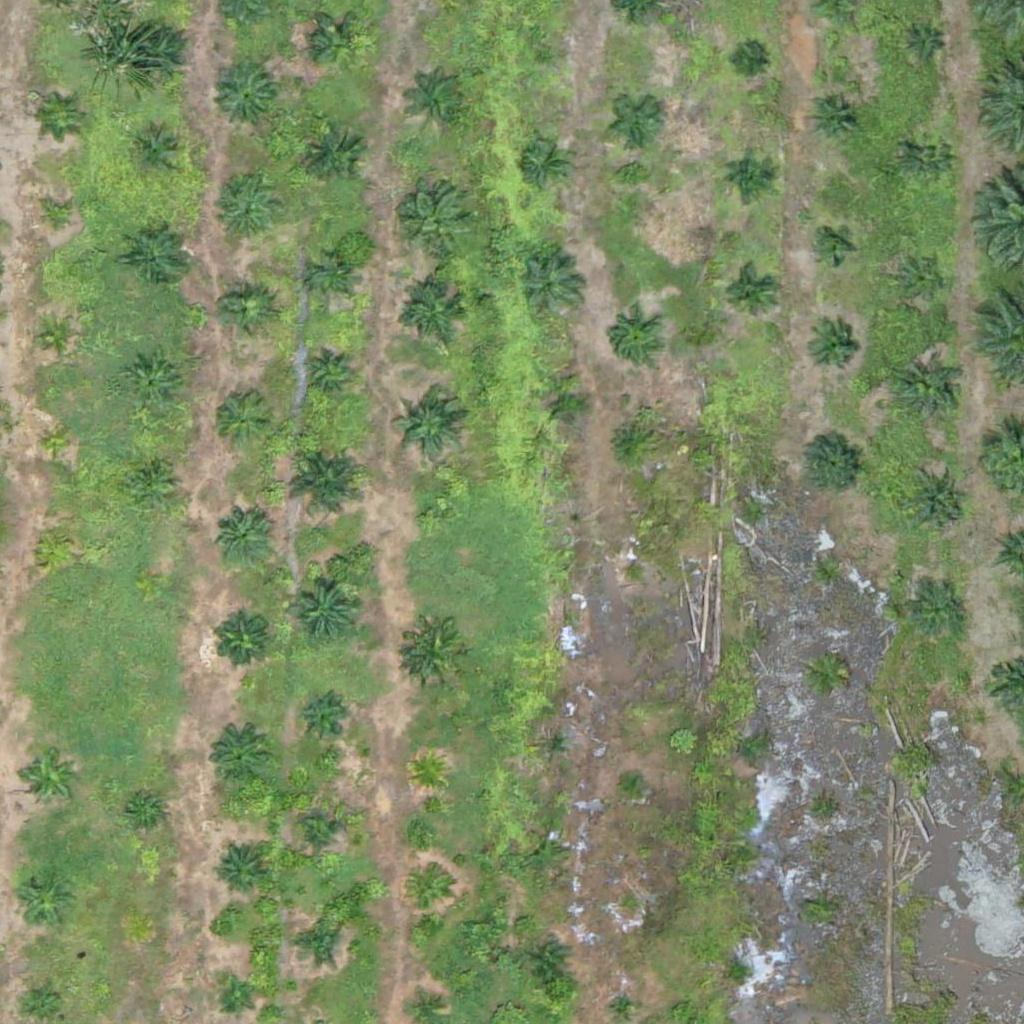Kelapa_Sawit: (283, 439, 370, 527), (391, 390, 466, 466), (286, 570, 361, 645), (11, 870, 74, 933), (209, 388, 272, 451), (214, 181, 277, 244), (212, 505, 275, 568), (906, 471, 969, 534), (520, 254, 583, 317), (801, 430, 864, 493), (403, 622, 466, 685), (127, 224, 190, 287), (18, 747, 81, 810), (123, 354, 186, 417), (128, 24, 191, 87), (213, 65, 275, 128), (206, 725, 268, 788), (210, 608, 272, 671), (900, 361, 962, 424), (303, 125, 365, 188), (403, 282, 465, 345), (405, 192, 468, 254), (411, 70, 473, 133), (212, 846, 262, 897), (723, 267, 773, 318), (807, 321, 857, 372), (289, 916, 339, 967), (132, 128, 182, 179), (541, 380, 591, 431), (603, 415, 653, 466), (221, 287, 271, 337), (293, 696, 343, 746), (913, 590, 963, 640), (905, 133, 955, 183), (725, 150, 775, 200), (613, 95, 663, 145), (313, 17, 363, 67), (520, 138, 570, 188), (608, 313, 658, 363), (126, 455, 176, 505), (894, 252, 944, 302), (810, 92, 860, 142), (294, 810, 344, 860), (302, 348, 351, 399), (46, 98, 84, 136), (814, 227, 852, 265), (409, 753, 447, 791), (531, 942, 569, 980), (411, 875, 449, 913), (527, 833, 565, 871), (39, 199, 77, 237), (37, 318, 75, 356), (39, 425, 77, 463), (35, 525, 73, 563), (126, 796, 164, 834), (312, 257, 349, 295), (536, 727, 573, 765), (217, 979, 254, 1017), (25, 985, 62, 1022), (912, 33, 937, 58), (735, 47, 760, 72), (534, 40, 559, 65), (621, 767, 646, 792), (618, 558, 643, 583), (419, 505, 444, 530)
